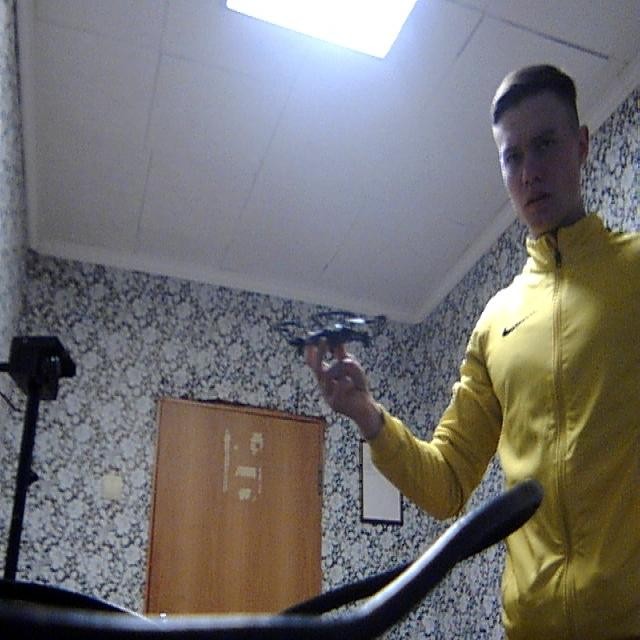drone: (278, 284, 391, 361)
